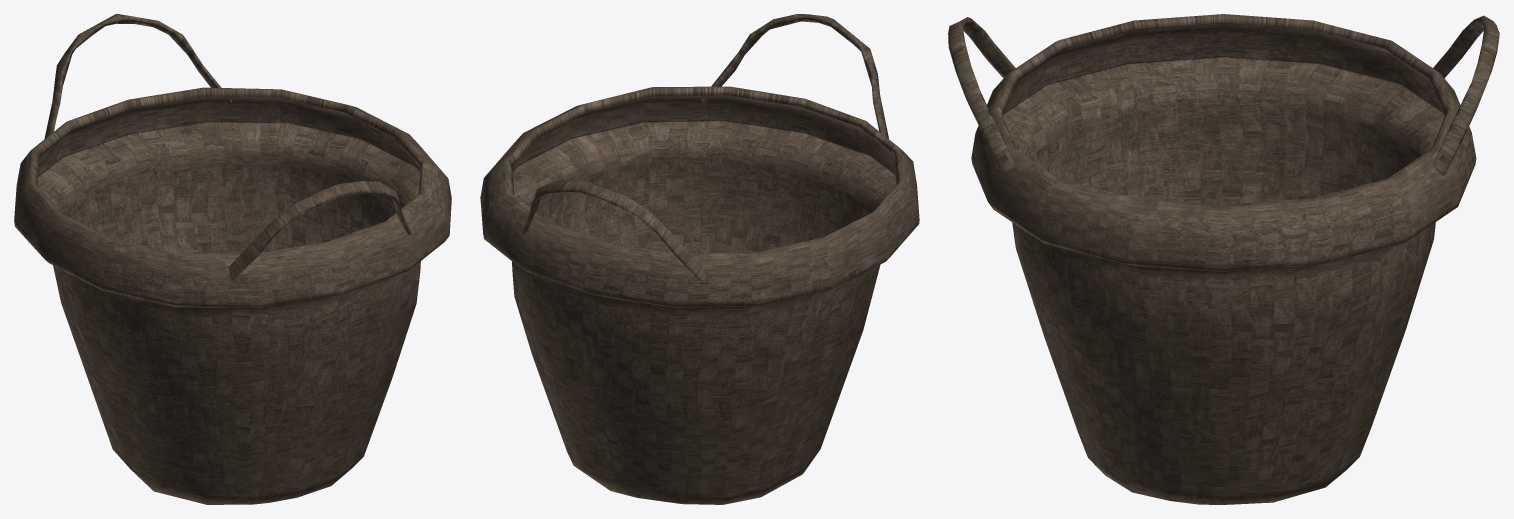
The model's file is SM_basket04.fbx.
3 views of the same model, side by side, from view 1: azimuth 30°, elevation 25°; view 2: azimuth 150°, elevation 25°; view 3: azimuth 270°, elevation 25° (orthographic). The views are drawn at different scales.
Parts seen in each view (by area): view 1: SM_basket04_LOD0; view 2: SM_basket04_LOD0; view 3: SM_basket04_LOD0.
Part boxes in pixels (bbox=[...]): SM_basket04_LOD0: bbox=[14, 14, 451, 504]; SM_basket04_LOD0: bbox=[480, 14, 919, 504]; SM_basket04_LOD0: bbox=[948, 14, 1499, 504].
Bounding box in the file's own units: 64.47 × 70.44 × 60.37.
